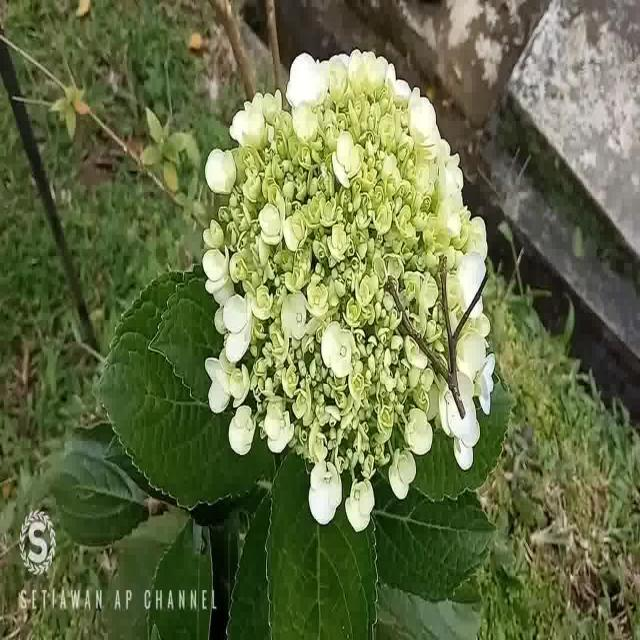Flower: (194, 43, 498, 541)
